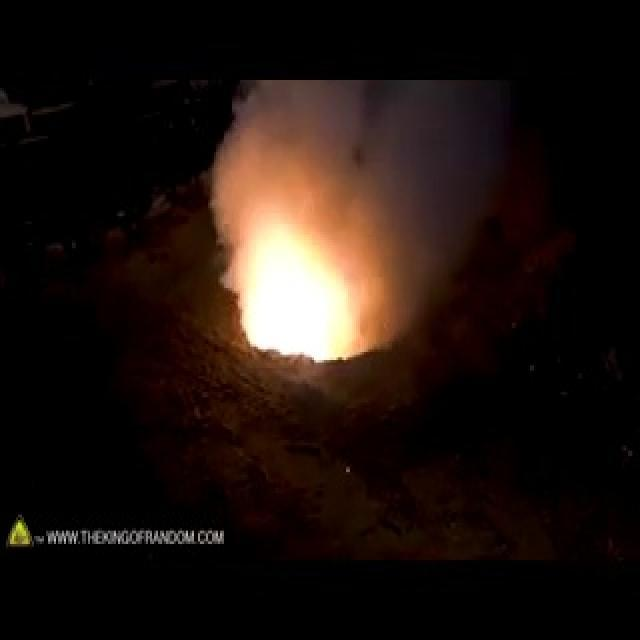Fire: (230, 240, 353, 358)
Smoke: (202, 81, 484, 244)
